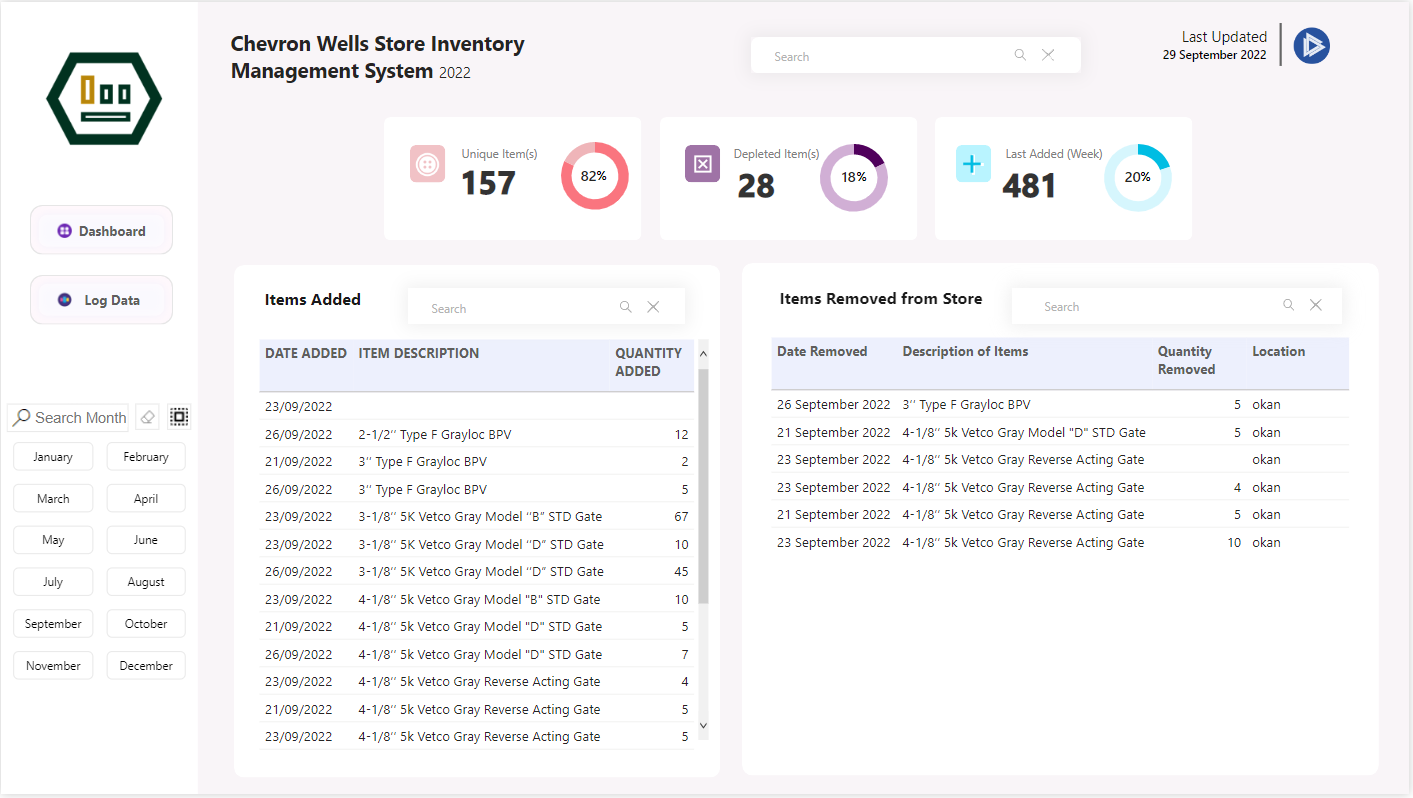

Layout of this report page (visuals, bound fields, positions):
{"tool":"powerbi","page":{"name":"Log Data","canvas":[1280,720],"ordinal":1},"visuals":[{"type":"shape","box":[0,0,178.9,720],"z":0},{"type":"card","fields":{"Values":["Metrics.Measure"]},"box":[519.4,146.2,30.2,27.2],"z":0,"group":"g4"},{"type":"card","fields":{"Values":["Metrics.percent depleted"]},"box":[755.4,147.8,30.2,27.2],"z":0,"group":"g3"},{"type":"card","fields":{"Values":["Metrics.precent added"]},"box":[1013.8,147.8,30.2,27.2],"z":0,"group":"g2"},{"type":"shape","box":[919.1,260.4,300,33.3],"z":0,"group":"g5"},{"type":"shape","box":[370.2,260.7,251.9,33.3],"z":0,"group":"g1"},{"type":"textbox","box":[534.2,142.3,24.3,28.1],"z":1000,"group":"g4"},{"type":"textbox","box":[770.2,143.9,24.3,28.1],"z":1000,"group":"g3"},{"type":"textbox","box":[1028.6,143.9,24.3,28.1],"z":1000,"group":"g2"},{"type":"shape","box":[26.5,248.5,130,45],"z":1000},{"type":"textSearchSlicerF85E2E78BE4A4D7D9F99ED75B5D71C85","fields":{"fields":["items_removed.Description of Items"]},"box":[932.7,253.1,286.4,47.3],"z":1000,"group":"g5"},{"type":"textSearchSlicerF85E2E78BE4A4D7D9F99ED75B5D71C85","fields":{"fields":["items_added.ITEM DESCRIPTION"]},"box":[376.1,254.8,241,47],"z":1000,"group":"g1"},{"type":"shape","box":[26.5,184.5,130,45],"z":2000},{"type":"actionButton","box":[26.5,248.5,129.7,44.7],"z":3000},{"type":"actionButton","box":[26.5,185,129.7,44.7],"z":4000},{"type":"Slicer1448559807355","fields":{"Category":["Calender Table.Date.Variation.Date Hierarchy.Month"]},"box":[0,349.7,178.9,370.3],"z":5000},{"type":"textbox","box":[203.6,19.1,330.9,61.8],"z":6000},{"type":"textbox","box":[1027,17,129,29],"z":7000},{"type":"shape","box":[1142,19,43,39],"z":8000},{"type":"card","fields":{"Values":["Metrics.Updated"]},"box":[1017,33,172,36],"z":9000},{"type":"shape","box":[682,31.7,300,33.3],"z":11000},{"type":"textSearchSlicerF85E2E78BE4A4D7D9F99ED75B5D71C85","fields":{"fields":["master_table.Item Description"]},"box":[687.6,25,287.8,46.7],"z":12000},{"type":"shape","box":[211.5,239.4,442.3,466.3],"z":13000},{"type":"tableEx","fields":{"Values":["items_added.DATE ADDED","items_added.ITEM DESCRIPTION","items_added.QUANTITY ADDED"]},"box":[229.1,301.8,419.1,382.7],"z":14000},{"type":"textbox","box":[234.6,254.8,126.9,32.7],"z":15000},{"type":"group","id":"g1","title":"Group 1","box":[370.2,254.8,251.9,47.1],"z":16000},{"type":"shape","box":[348.2,104.4,234.3,111.8],"z":17000},{"type":"shape","box":[598.8,104.2,234,112],"z":18000},{"type":"shape","box":[849.1,104.4,234.3,111.8],"z":19000},{"type":"shape","box":[371.5,130.3,32,34],"z":20000},{"type":"shape","box":[621.9,130.3,32.2,34],"z":21000},{"type":"shape","box":[868,130.3,32.2,34],"z":22000},{"type":"card","fields":{"Values":["CountNonNull(master_table.Item Description)"]},"box":[399.2,139.7,87,47],"z":23000},{"type":"textbox","box":[413.5,123.1,128.8,28.6],"z":24000},{"type":"textbox","box":[661.3,123.1,128.8,28.6],"z":25000},{"type":"textbox","box":[908.2,122.7,132,29],"z":26000},{"type":"card","fields":{"Values":["Metrics.depleted items"]},"box":[648.2,142.7,77,47],"z":27000},{"type":"card","fields":{"Values":["Metrics.quantity added"]},"box":[895.7,142.8,81.4,46.5],"z":28000},{"type":"donutChart","fields":{"Y":["Metrics.quantity added","Metrics.older items"]},"box":[989.5,116,88.5,86.8],"z":29000},{"type":"donutChart","fields":{"Y":["Metrics.depleted items","Metrics.active items"]},"box":[731.1,116,88.5,86.8],"z":30000},{"type":"donutChart","fields":{"Y":["Metrics.active items","Metrics.depleted items"]},"box":[495.1,114.4,88.5,86.8],"z":31000},{"type":"image","box":[368.2,127.7,39,40],"z":32000},{"type":"image","box":[619.2,127.7,38,40],"z":33000},{"type":"image","box":[868.2,131.7,32,32],"z":34000},{"type":"image","box":[868.2,132.7,29,29],"z":35000},{"type":"group","id":"g2","title":"Group 2","box":[1013.8,143.9,39,31.1],"z":36000},{"type":"group","id":"g3","title":"Group 2","box":[755.4,143.9,39,31.1],"z":37000},{"type":"group","id":"g4","title":"Group 2","box":[519.4,142.3,39,31.1],"z":38000},{"type":"shape","box":[674,237.5,578.8,466.3],"z":39000},{"type":"tableEx","fields":{"Values":["items_removed.DATE REMOVED","items_removed.ITEM DESCRIPTION","Sum(items_removed.QUANTITY REMOVED)","items_removed.LOCATION"]},"box":[694.2,300,542.3,382.7],"z":40000},{"type":"textbox","box":[702.7,253.6,205.5,32.7],"z":41000},{"type":"group","id":"g5","title":"Group 1","box":[919.1,253.1,300,47.3],"z":42000},{"type":"image","box":[35,25.3,119.6,117.7],"z":42001},{"type":"image","box":[1168.1,18.5,46.7,42.8],"z":42002}]}

Visuals, with their boxes in screenshot pixels (x1, y1, x2, y2), scaled from the page's 1280x720 canvas onto the 1413x798 screenshot:
shape: <box>0,0,197,797</box>
card - Metrics.Measure: <box>573,162,607,192</box>
card - Metrics.percent depleted: <box>834,164,867,194</box>
card - Metrics.precent added: <box>1119,164,1152,194</box>
shape: <box>1015,289,1346,326</box>
shape: <box>409,289,687,326</box>
textbox: <box>590,158,617,189</box>
textbox: <box>850,159,877,191</box>
textbox: <box>1135,159,1162,191</box>
shape: <box>29,275,173,325</box>
textSearchSlicerF85E2E78BE4A4D7D9F99ED75B5D71C85 - items_removed.Description of Items: <box>1030,281,1346,333</box>
textSearchSlicerF85E2E78BE4A4D7D9F99ED75B5D71C85 - items_added.ITEM DESCRIPTION: <box>415,282,681,334</box>
shape: <box>29,204,173,254</box>
actionButton: <box>29,275,172,325</box>
actionButton: <box>29,205,172,255</box>
Slicer1448559807355 - Calender Table.Date.Variation.Date Hierarchy.Month: <box>0,388,197,797</box>
textbox: <box>225,21,590,90</box>
textbox: <box>1134,19,1276,51</box>
shape: <box>1261,21,1308,64</box>
card - Metrics.Updated: <box>1123,37,1313,76</box>
shape: <box>753,35,1084,72</box>
textSearchSlicerF85E2E78BE4A4D7D9F99ED75B5D71C85 - master_table.Item Description: <box>759,28,1077,79</box>
shape: <box>233,265,722,782</box>
tableEx - items_added.DATE ADDED x items_added.ITEM DESCRIPTION: <box>253,334,716,759</box>
textbox: <box>259,282,399,319</box>
"Group 1" group: <box>409,282,687,335</box>
shape: <box>384,116,643,240</box>
shape: <box>661,115,919,240</box>
shape: <box>937,116,1196,240</box>
shape: <box>410,144,445,182</box>
shape: <box>687,144,722,182</box>
shape: <box>958,144,994,182</box>
card - CountNonNull(master_table.Item Description): <box>441,155,537,207</box>
textbox: <box>456,136,599,168</box>
textbox: <box>730,136,872,168</box>
textbox: <box>1003,136,1148,168</box>
card - Metrics.depleted items: <box>716,158,801,210</box>
card - Metrics.quantity added: <box>989,158,1079,210</box>
donutChart - Metrics.quantity added x Metrics.older items: <box>1092,129,1190,225</box>
donutChart - Metrics.depleted items x Metrics.active items: <box>807,129,905,225</box>
donutChart - Metrics.active items x Metrics.depleted items: <box>547,127,644,223</box>
image: <box>406,142,450,186</box>
image: <box>684,142,725,186</box>
image: <box>958,146,994,181</box>
image: <box>958,147,990,179</box>
"Group 2" group: <box>1119,159,1162,194</box>
"Group 2" group: <box>834,159,877,194</box>
"Group 2" group: <box>573,158,616,192</box>
shape: <box>744,263,1383,780</box>
tableEx - items_removed.DATE REMOVED x items_removed.ITEM DESCRIPTION: <box>766,332,1365,757</box>
textbox: <box>776,281,1003,317</box>
"Group 1" group: <box>1015,281,1346,333</box>
image: <box>39,28,171,158</box>
image: <box>1289,21,1341,68</box>
